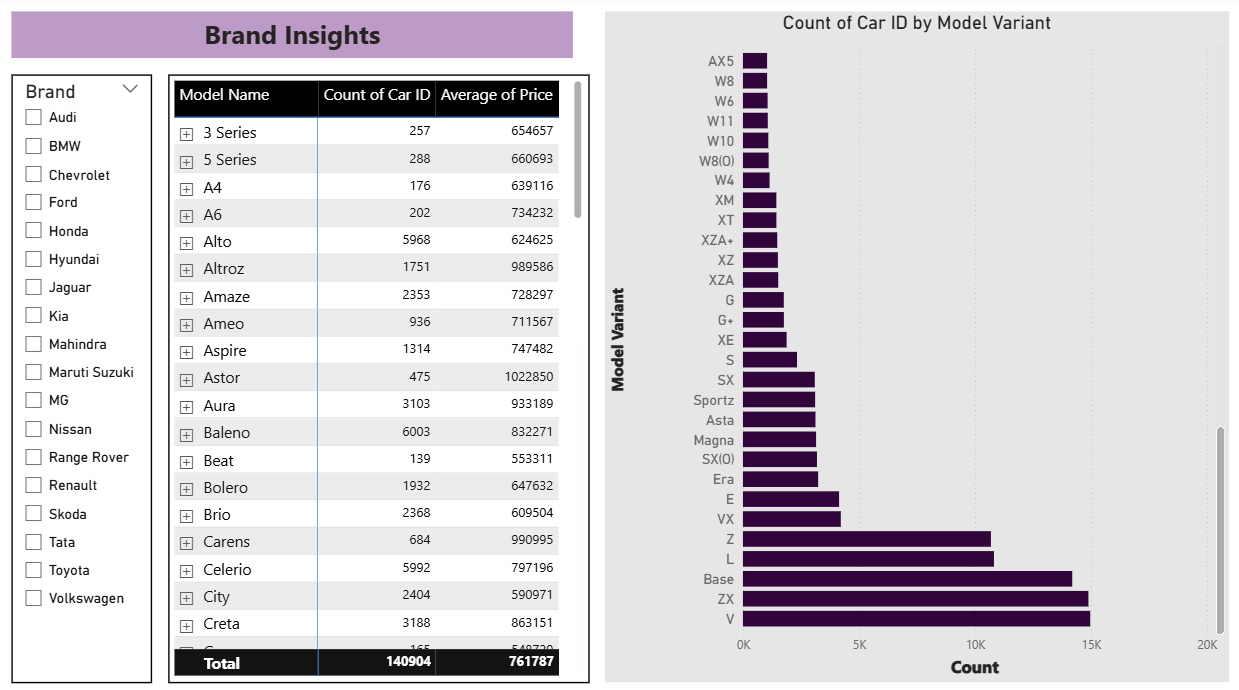

What the dashboard file says about the page in this screenshot:
{"tool":"powerbi","page":{"name":"Page 2","canvas":[1280,720],"ordinal":1},"visuals":[{"type":"slicer","fields":{"Values":["Car Sell Dataset.Brand"]},"box":[16,80,144,624],"z":0},{"type":"pivotTable","fields":{"Rows":["Car Sell Dataset.Model Name","Car Sell Dataset.Model Variant"],"Values":["CountNonNull(Car Sell Dataset.Car ID)","Avg(Car Sell Dataset.Price)"]},"box":[176,80,432,624],"z":1000},{"type":"barChart","fields":{"Category":["Car Sell Dataset.Model Variant"],"Y":["CountNonNull(Car Sell Dataset.Car ID)"]},"box":[624,16,640,688],"z":2000},{"type":"textbox","box":[16,16,576,48],"z":3000}]}

Visuals, with their boxes in screenshot pixels (x1, y1, x2, y2), scaled from the page's 1280x720 canvas onto the 1239x690 screenshot:
slicer - Car Sell Dataset.Brand: {"x1": 15, "y1": 77, "x2": 155, "y2": 675}
pivotTable - Car Sell Dataset.Model Name x Car Sell Dataset.Model Variant: {"x1": 170, "y1": 77, "x2": 589, "y2": 675}
barChart - Car Sell Dataset.Model Variant x CountNonNull(Car Sell Dataset.Car ID): {"x1": 604, "y1": 15, "x2": 1224, "y2": 675}
textbox: {"x1": 15, "y1": 15, "x2": 573, "y2": 61}
